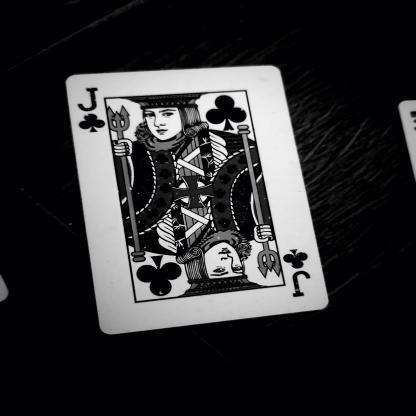JC: (276, 242, 324, 306), (76, 83, 110, 147)
